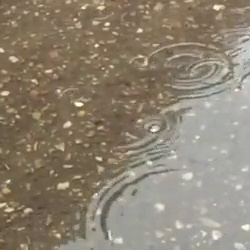drop: (188, 59, 233, 86), (76, 3, 114, 21), (220, 8, 250, 30), (144, 116, 163, 134), (128, 53, 149, 69), (59, 85, 78, 101)
